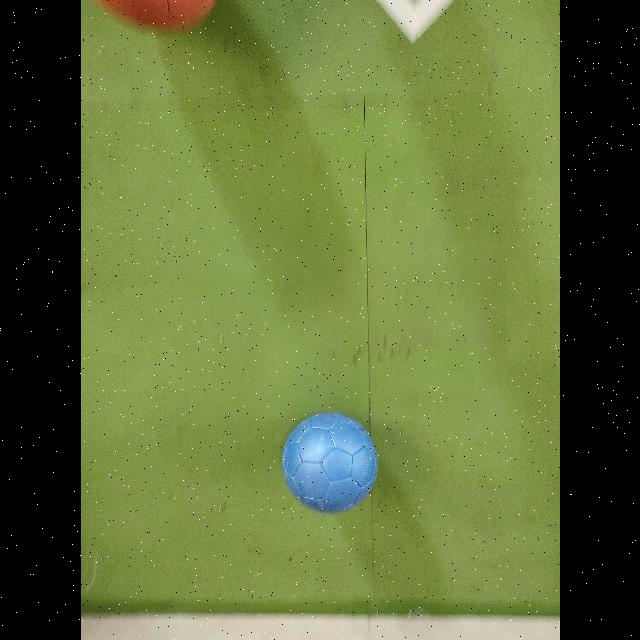B: (282, 413, 376, 512)
R: (80, 0, 222, 30)
